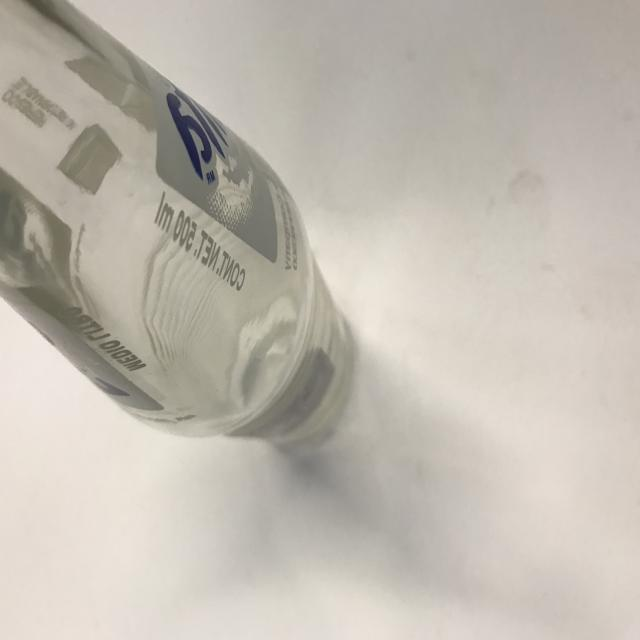glass: (0, 0, 357, 449)
